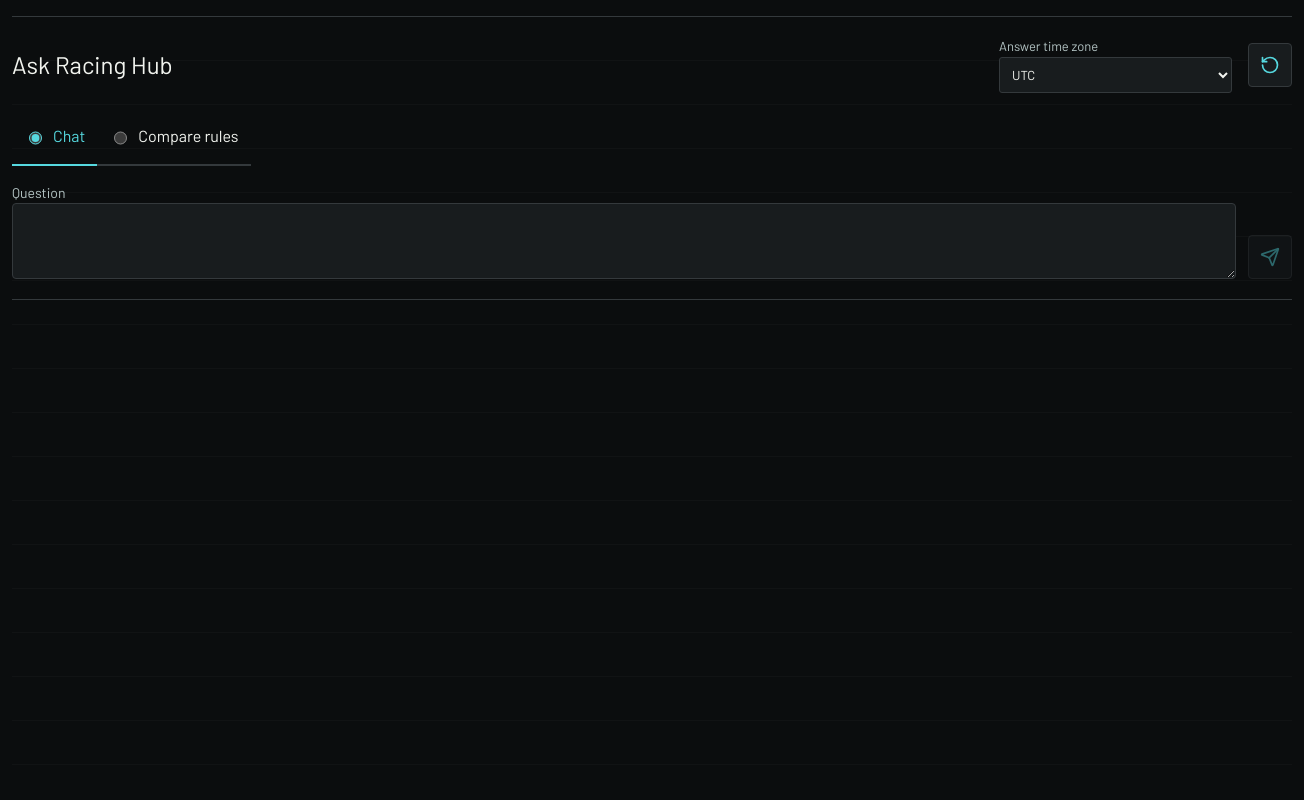
Test case: renders synthetic contributions separately without source citations
In the text box labelled "Question": (624, 240) [12,202,1236,278], type "Show the synthetic note"
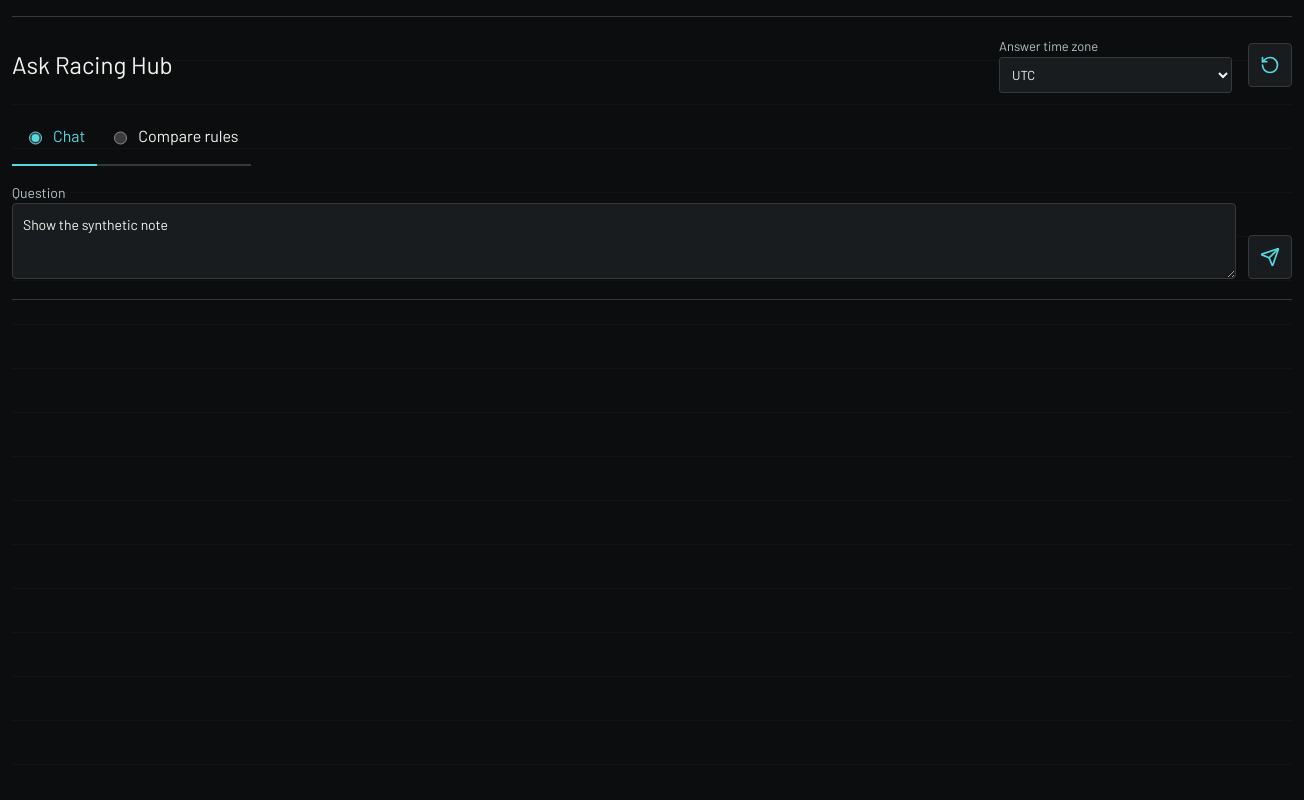
Check: the button named "Send question" is enabled
Click the button named "Send question": (1270, 256) [1248,234,1292,278]
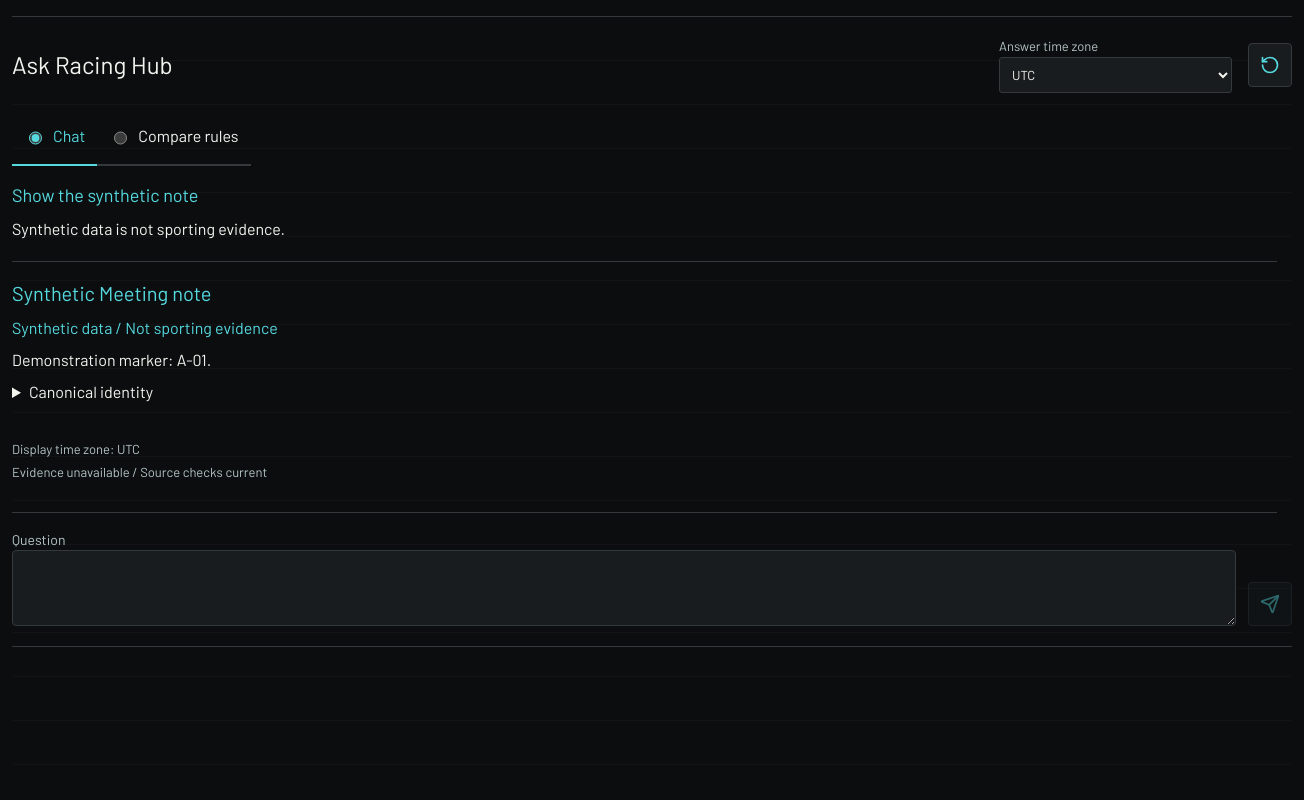
Check: the text "Demonstration marker: A-01." is shown, box [12,350,211,368]
Check: the text "Synthetic data / Not sporting evidence" is shown, box [12,318,278,336]
